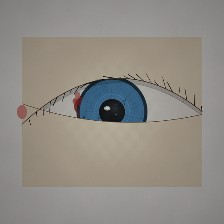hemorrhage_spot: (62, 72, 148, 141)
